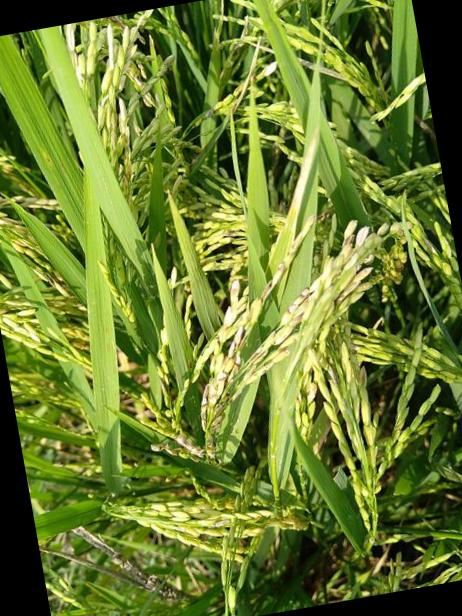Panicle Blight: (200, 283, 250, 460), (261, 214, 314, 303), (331, 221, 381, 303), (186, 75, 249, 133), (273, 287, 309, 345), (294, 360, 317, 428), (150, 437, 200, 463), (115, 151, 135, 198), (264, 341, 289, 370), (322, 366, 340, 393), (377, 219, 401, 239), (107, 16, 136, 32), (218, 230, 246, 243), (405, 209, 421, 228), (358, 365, 369, 389)
